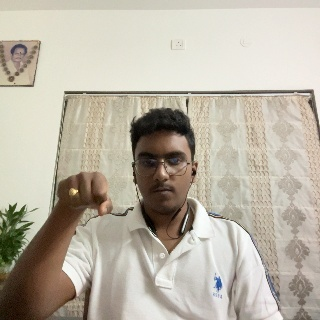Face: (134, 124, 192, 220)
Yes: (54, 169, 113, 233)
